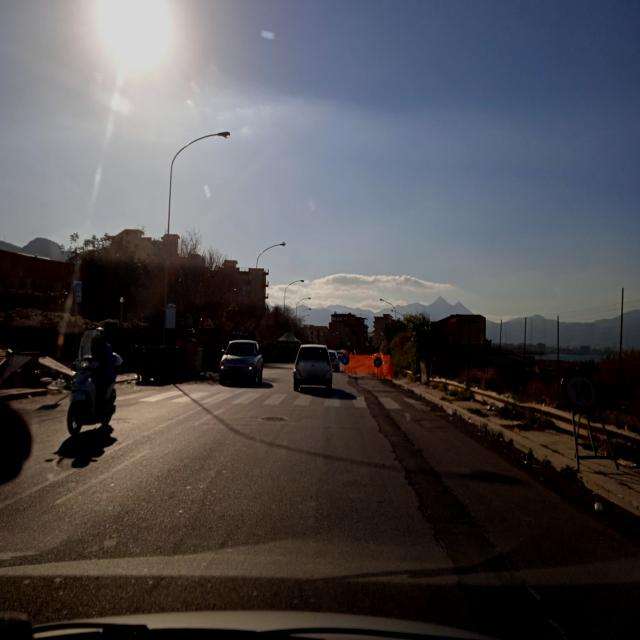bike: (66, 352, 125, 437)
car: (2, 354, 76, 389), (218, 339, 264, 385), (292, 343, 334, 392), (328, 351, 341, 372), (336, 349, 350, 365)
